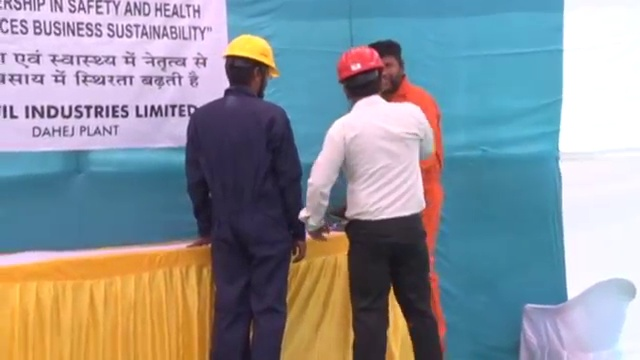helmet: (222, 33, 280, 78), (334, 45, 384, 82)
helmet_off: (373, 38, 406, 94)
helmet_on: (221, 32, 280, 98), (334, 44, 384, 102)
person: (306, 45, 447, 360), (179, 31, 306, 360), (371, 38, 446, 236)
